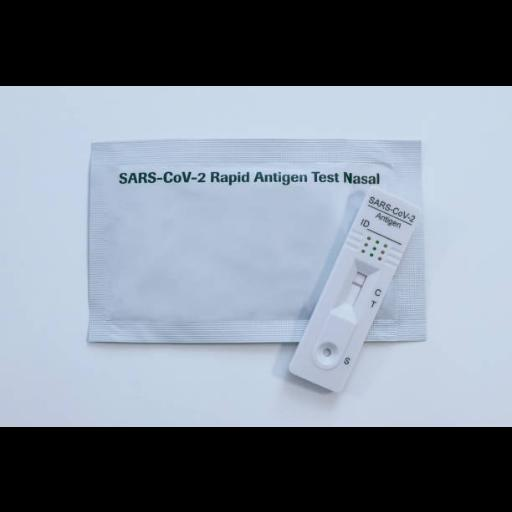Neg: (287, 188, 422, 393)
